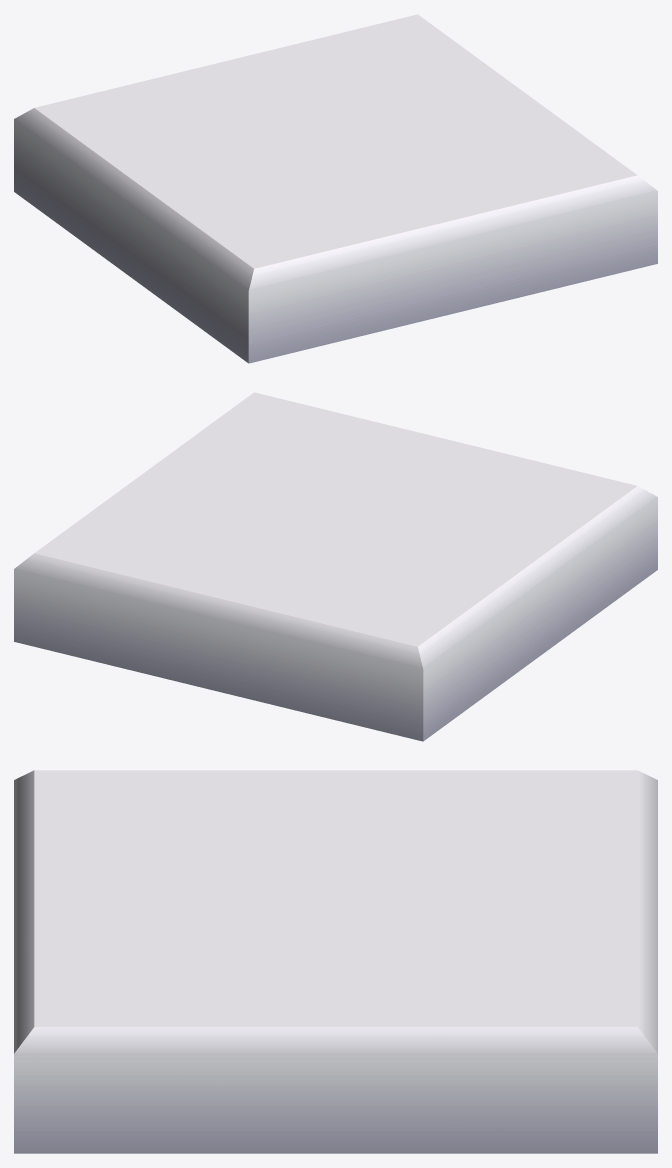
Rendered from none-hq-plate-2x2.glb.
The picture shows the model from 3 angles, top to bottom: view 1: azimuth 30°, elevation 25°; view 2: azimuth 150°, elevation 25°; view 3: azimuth 270°, elevation 25°; orthographic projection. The views are drawn at different scales.
Visible parts, largest first — view 1: none-hq-plate-2x2; view 2: none-hq-plate-2x2; view 3: none-hq-plate-2x2.
Part boxes in pixels (x1,y1,x2,y2): none-hq-plate-2x2: (14,14,657,363); none-hq-plate-2x2: (14,392,657,741); none-hq-plate-2x2: (14,770,657,1153).
Bounding box in the file's own units: 0.159 × 0.032 × 0.158.
Materials: 1 (1 with a texture image).
